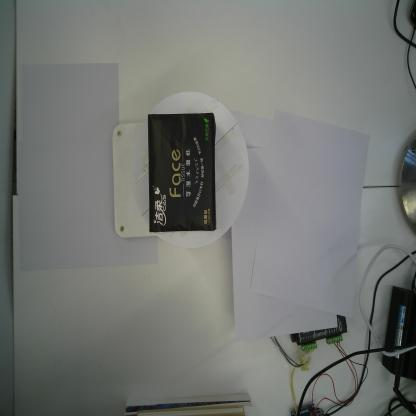Tissue: (147, 112, 218, 235)
